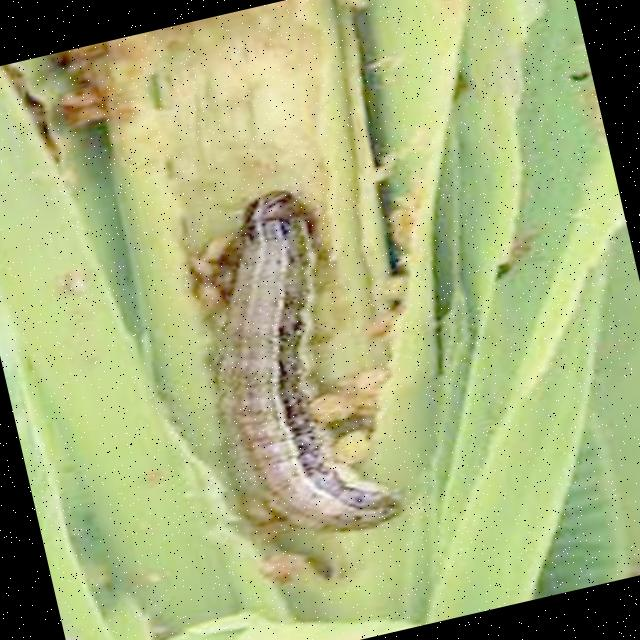worm: (165, 176, 413, 566)
